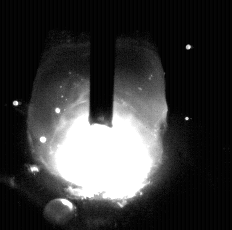arame: (90, 0, 115, 127)
poca: (26, 0, 164, 230)
